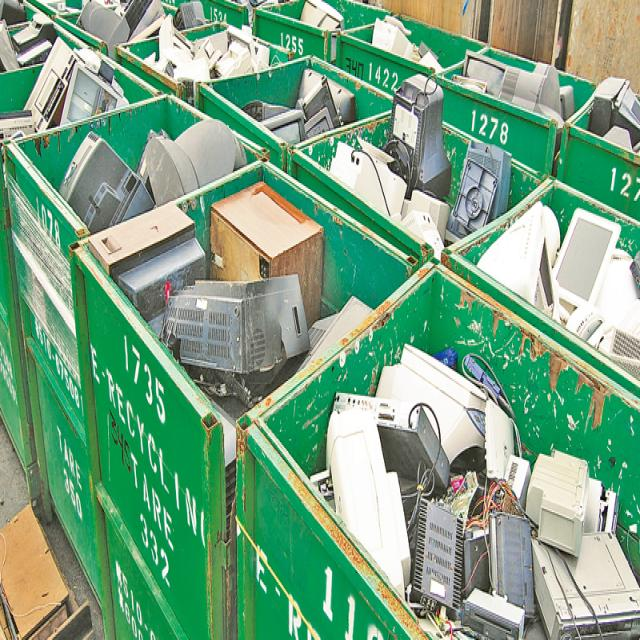Hazard: (329, 330, 615, 640), (122, 196, 327, 390), (346, 85, 494, 248), (499, 197, 639, 362), (23, 58, 111, 120)
